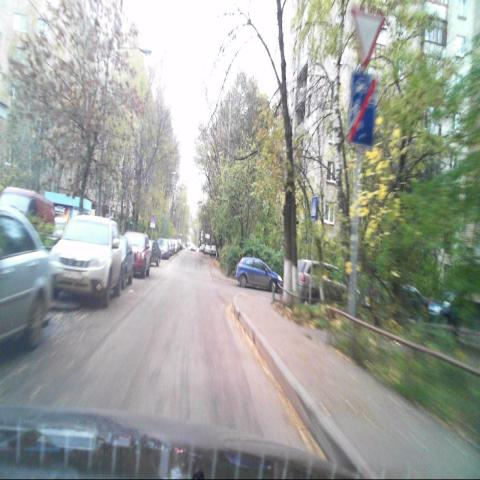5_22: (348, 72, 374, 148)
